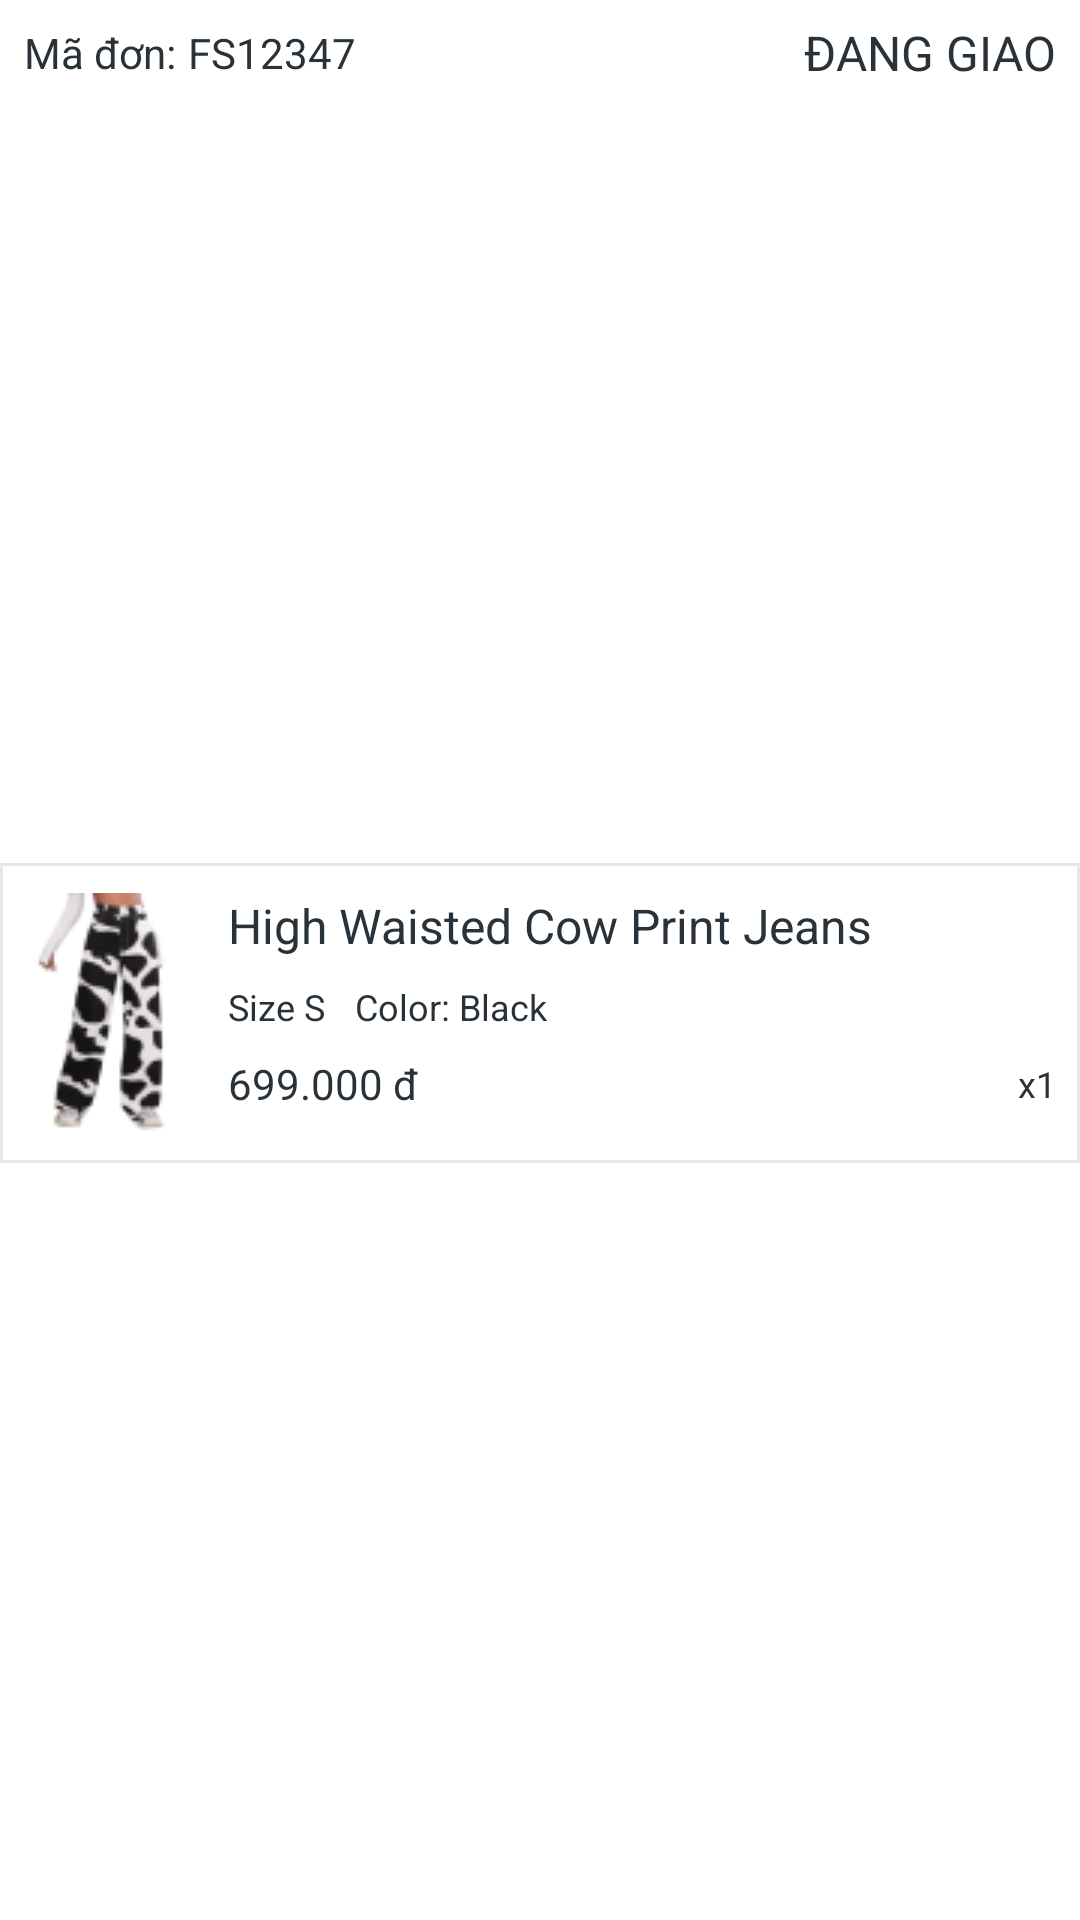

Icons on this 1080w x 1920h Android screen, each with the point to tap as (x,y):
prod jean trans: (100,1011)
